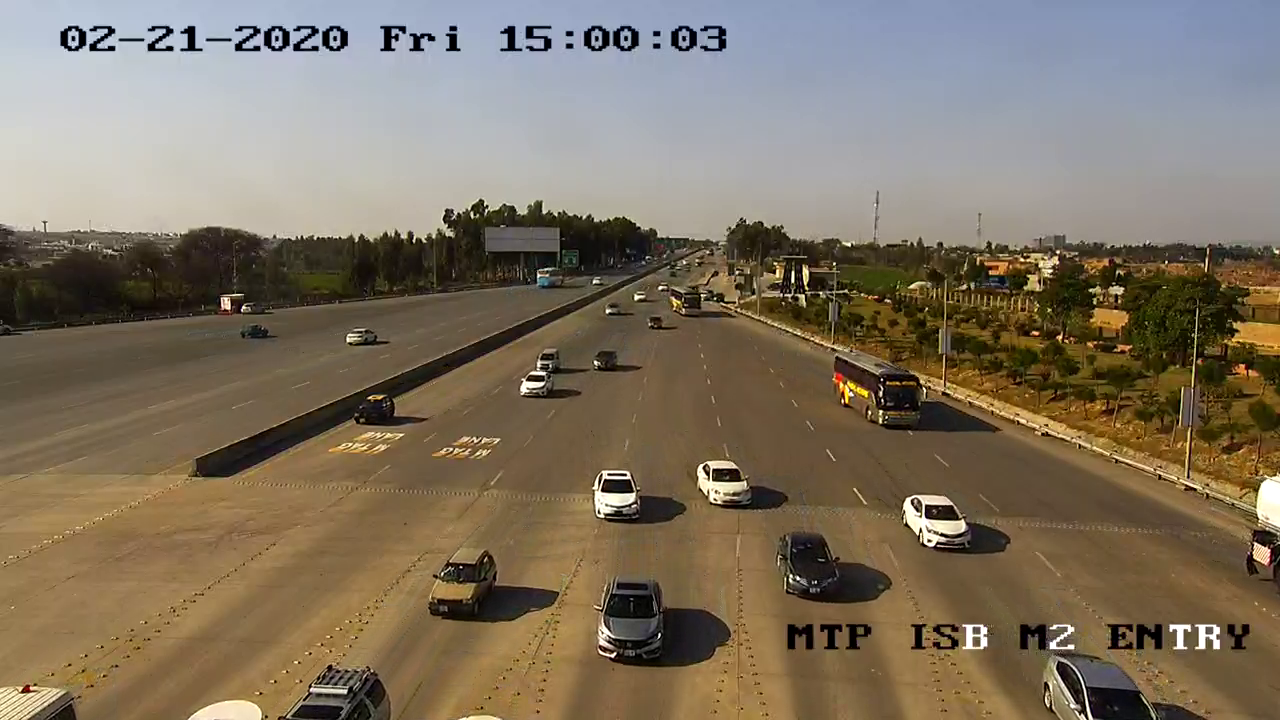f1: (588, 564, 674, 672), (420, 544, 508, 632), (766, 523, 851, 606), (890, 483, 981, 560), (583, 454, 648, 529), (688, 455, 760, 517)
f4: (822, 337, 934, 440)
